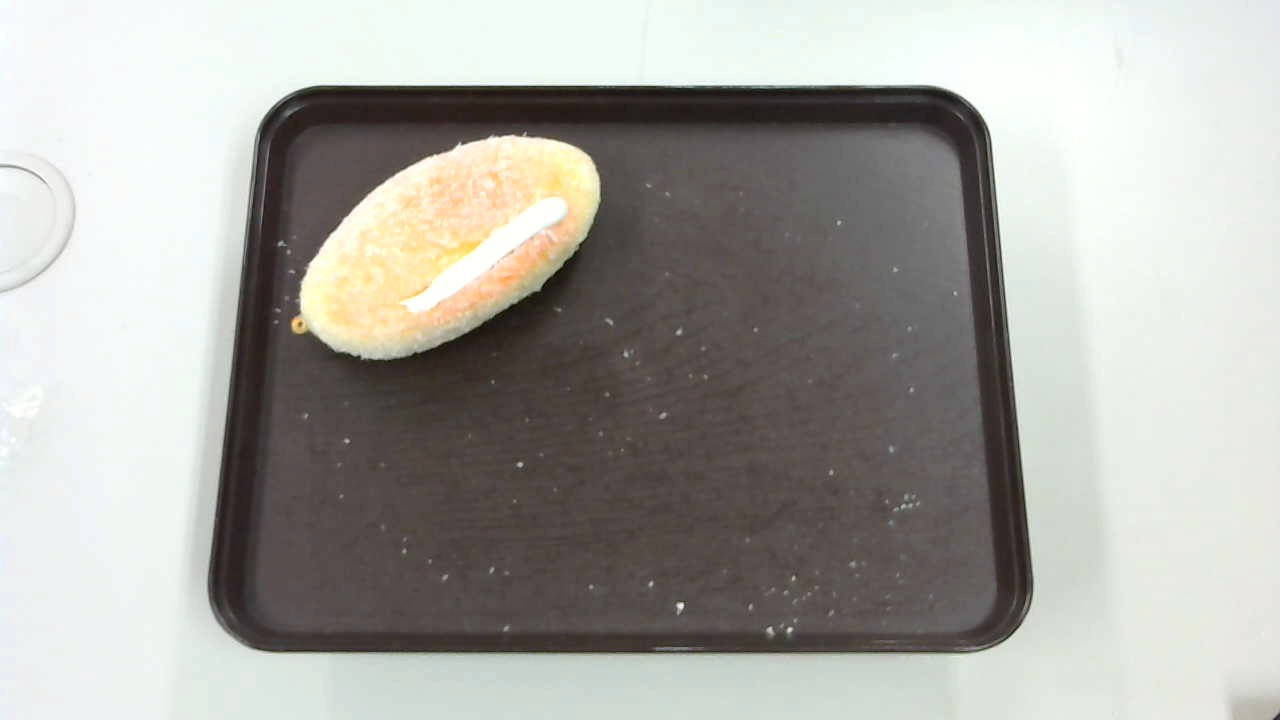coconut: (292, 133, 600, 362)
